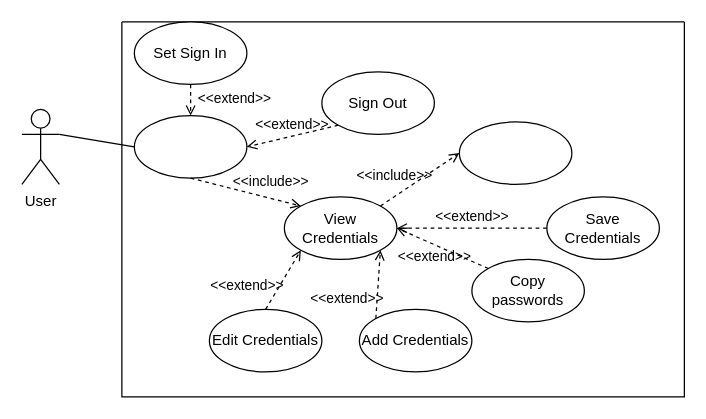
This 706x419 diagram has some shape labels left out. The shapes that lost their labels are listed below. From the top down, each one's centre as x and y in pixels, then its label:
At [190,146]: "Sign In".
At [515,152]: "Hide/Unhide passwords".
